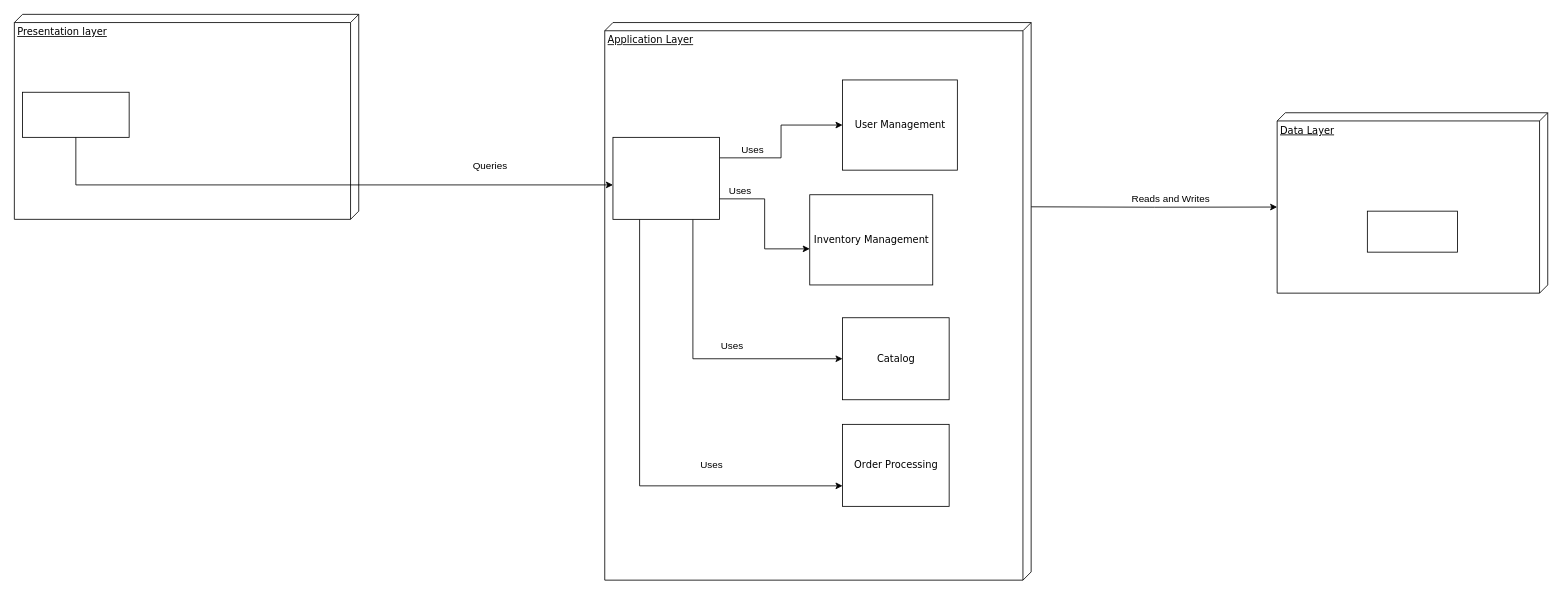
The diagram is 1562 pixels wide and 595 high, and some of its shapes have lost their labels. Each missing label, with the centre of its shape:
"Database" belongs at (x=1412, y=231).
"Library Management" belongs at (x=666, y=178).
"User Interface" belongs at (x=75, y=114).
